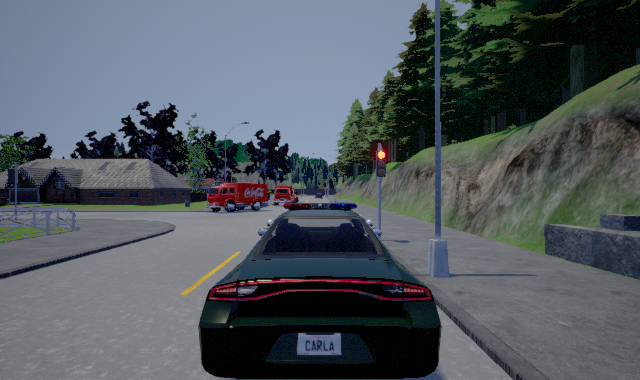traffic_light: (376, 145, 386, 183)
vehicle: (198, 201, 443, 379), (202, 180, 268, 212), (271, 185, 298, 205)
